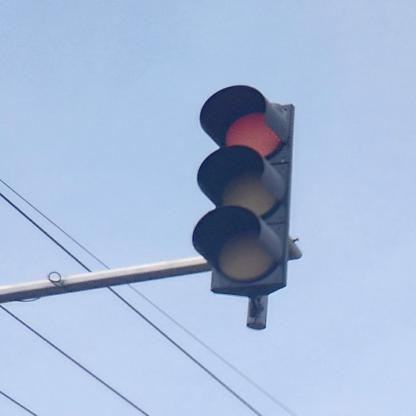red: (198, 90, 290, 292)
